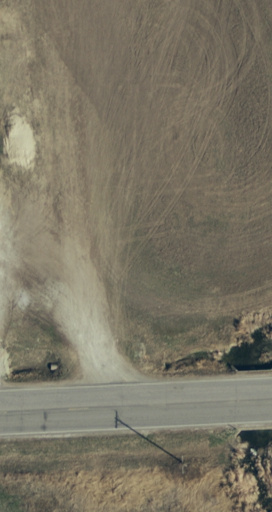DT: (171, 451, 194, 480)
